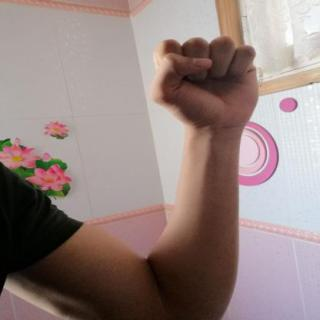SAD: (131, 29, 270, 136)
